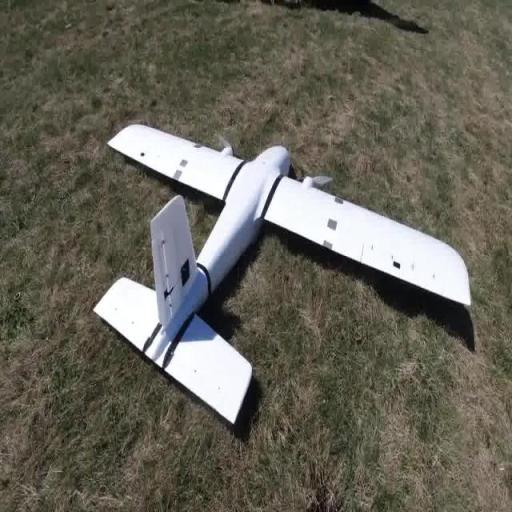uav: (87, 119, 474, 434)
